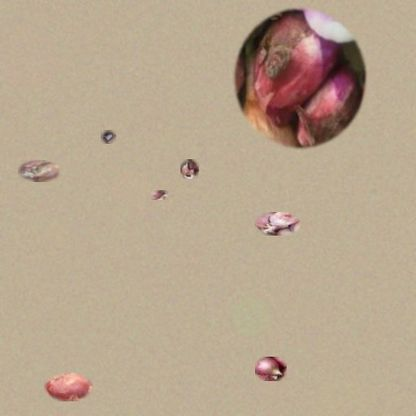damaged: (231, 5, 370, 152)
healthy: (44, 373, 93, 401), (255, 357, 287, 381)
rotten: (18, 160, 61, 182), (180, 159, 199, 179), (101, 130, 116, 144)
sprouted: (254, 212, 300, 236), (151, 190, 168, 200)
